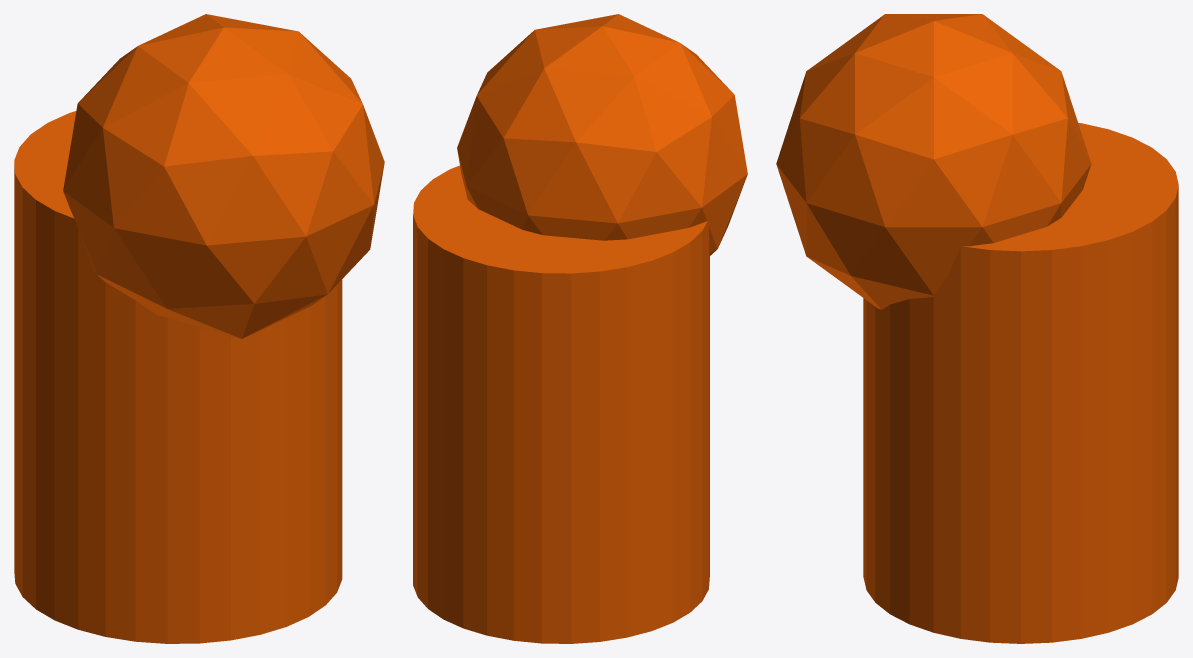
File: enemy.fbx
The picture shows the model from 3 angles, left to right: view 1: azimuth 30°, elevation 25°; view 2: azimuth 150°, elevation 25°; view 3: azimuth 270°, elevation 25°; orthographic projection. The views are drawn at different scales.
Parts seen in each view (by area): view 1: Icosphere; view 2: Icosphere; view 3: Icosphere.
Boxes of the visible parts, box(x1,y1,x2,y2) form: Icosphere: box(14, 14, 384, 643); Icosphere: box(413, 14, 747, 643); Icosphere: box(776, 14, 1178, 643).
Bounding box in the file's own units: 200 × 389 × 255.
